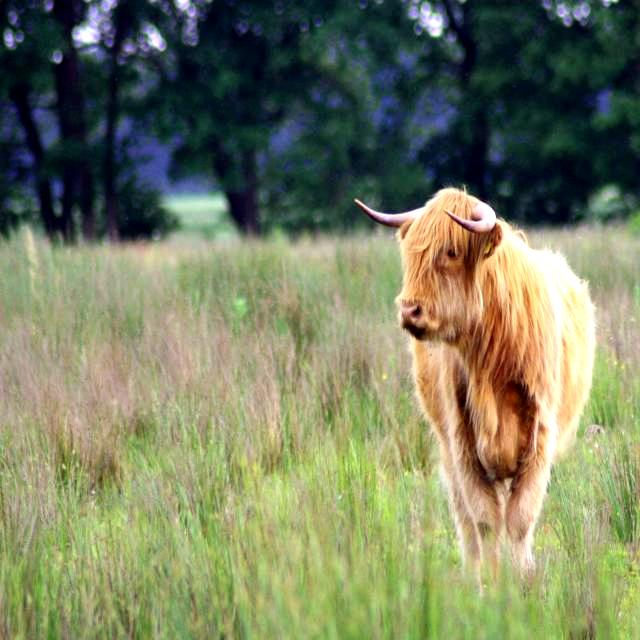COW: (355, 189, 595, 571)
